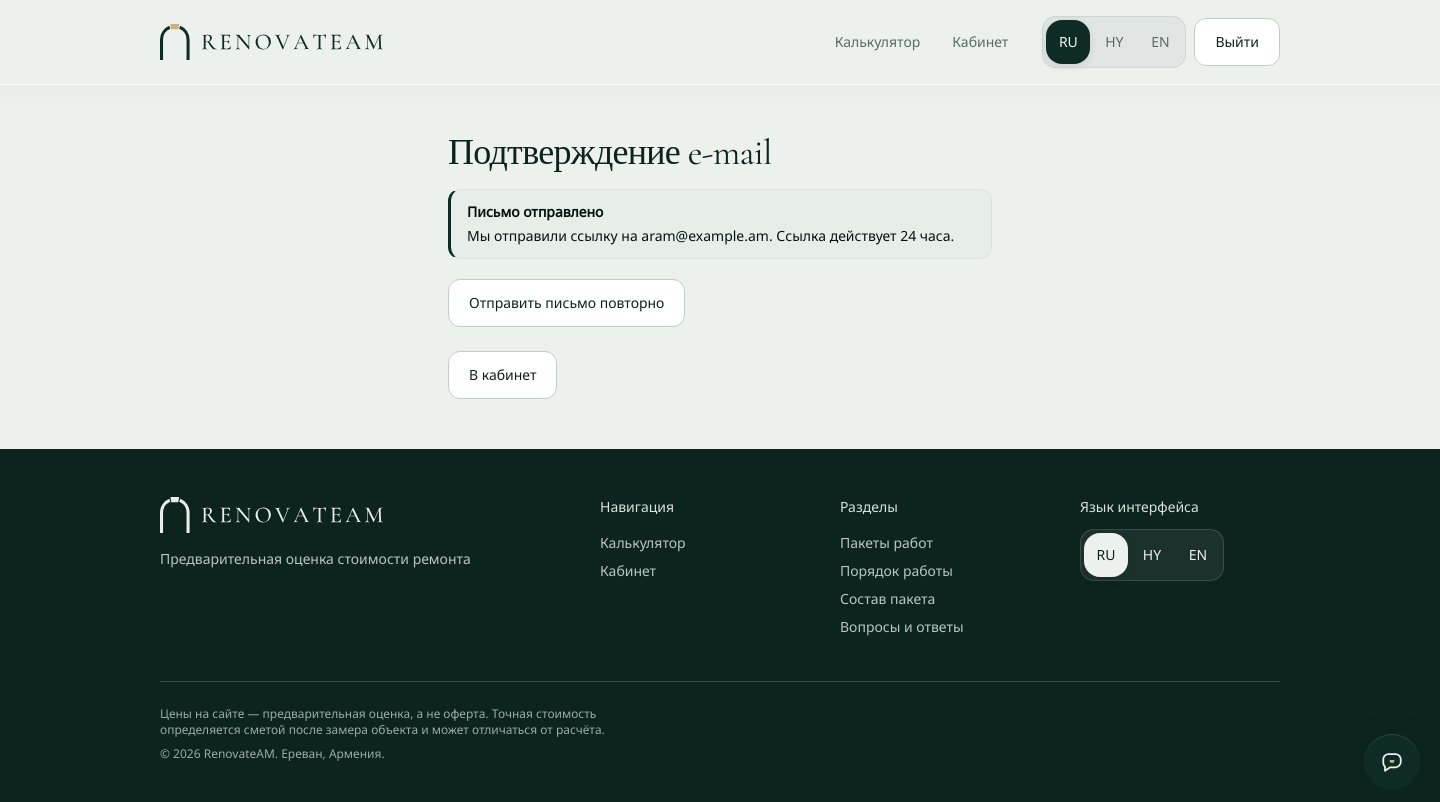
отказ почтового канала › повторная отправка с 502 EMAIL_DELIVERY_FAILED показывает честный текст
The width and height of the screenshot is (1440, 802).
Step 1. Click the button "Отправить письмо повторно" → (567, 303), box 448,279 -> 685,327
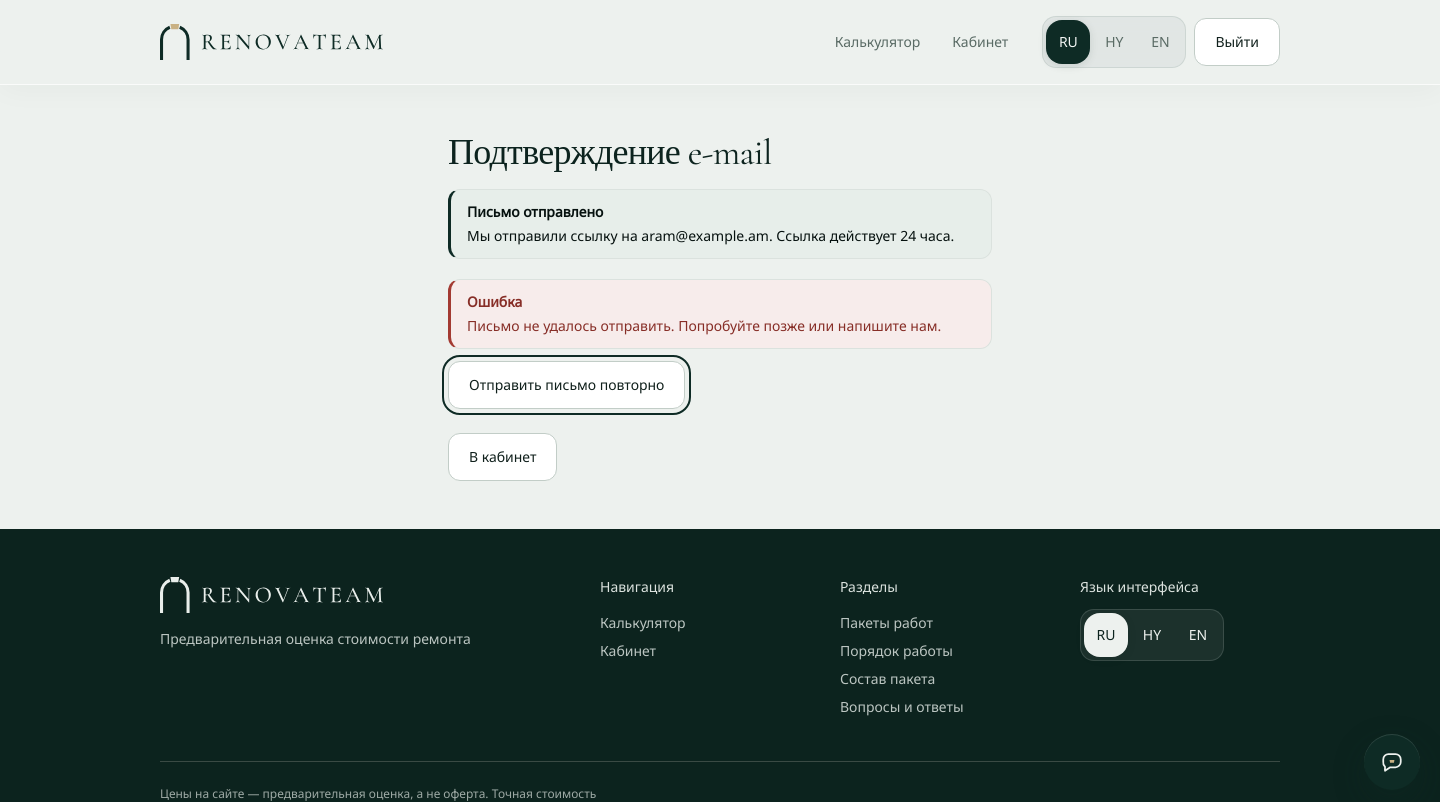
Expected: the text "Письмо не удалось отправить. Попробуйте позже или напишите нам." is shown, 467,316 -> 975,336
